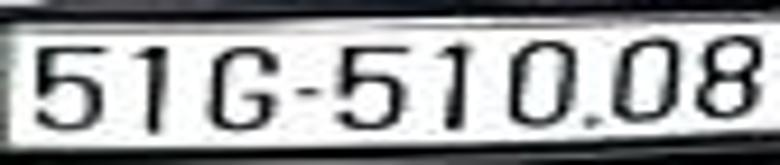-: (295, 85, 317, 95)
.: (586, 118, 598, 129)
0: (615, 36, 678, 123), (511, 44, 573, 126)
1: (139, 48, 166, 134), (444, 45, 469, 128)
5: (335, 46, 409, 130), (36, 44, 102, 133)
8: (698, 36, 758, 118)
G: (212, 49, 274, 129)
